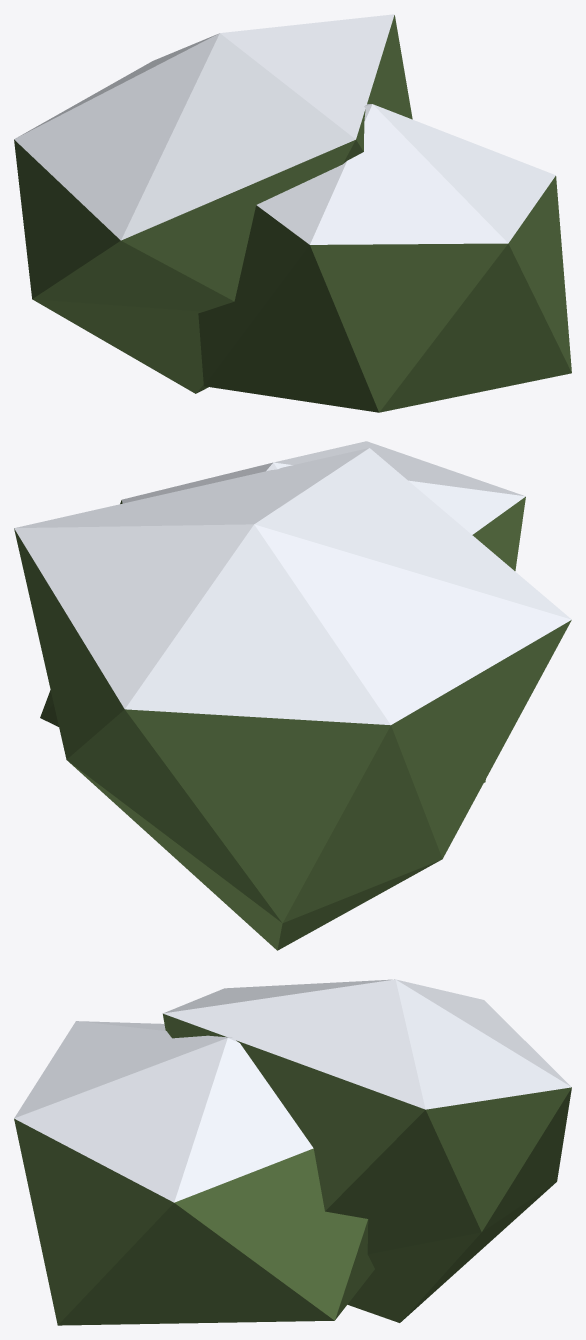
The model's file is shrub-3.glb.
The picture shows the model from 3 angles, top to bottom: view 1: azimuth 30°, elevation 25°; view 2: azimuth 150°, elevation 25°; view 3: azimuth 270°, elevation 25°; orthographic projection. The views are drawn at different scales.
Visible parts, largest first — view 1: shrub-3; view 2: shrub-3; view 3: shrub-3.
Part boxes in pixels (x1,y1,x2,y2): shrub-3: (14, 14, 571, 412); shrub-3: (14, 441, 571, 950); shrub-3: (14, 979, 571, 1325).
Size of the model in its own units: 1.31 by 1.1 by 1.56.
